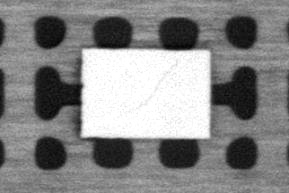DIE_CRACK: (124, 63, 175, 112)
